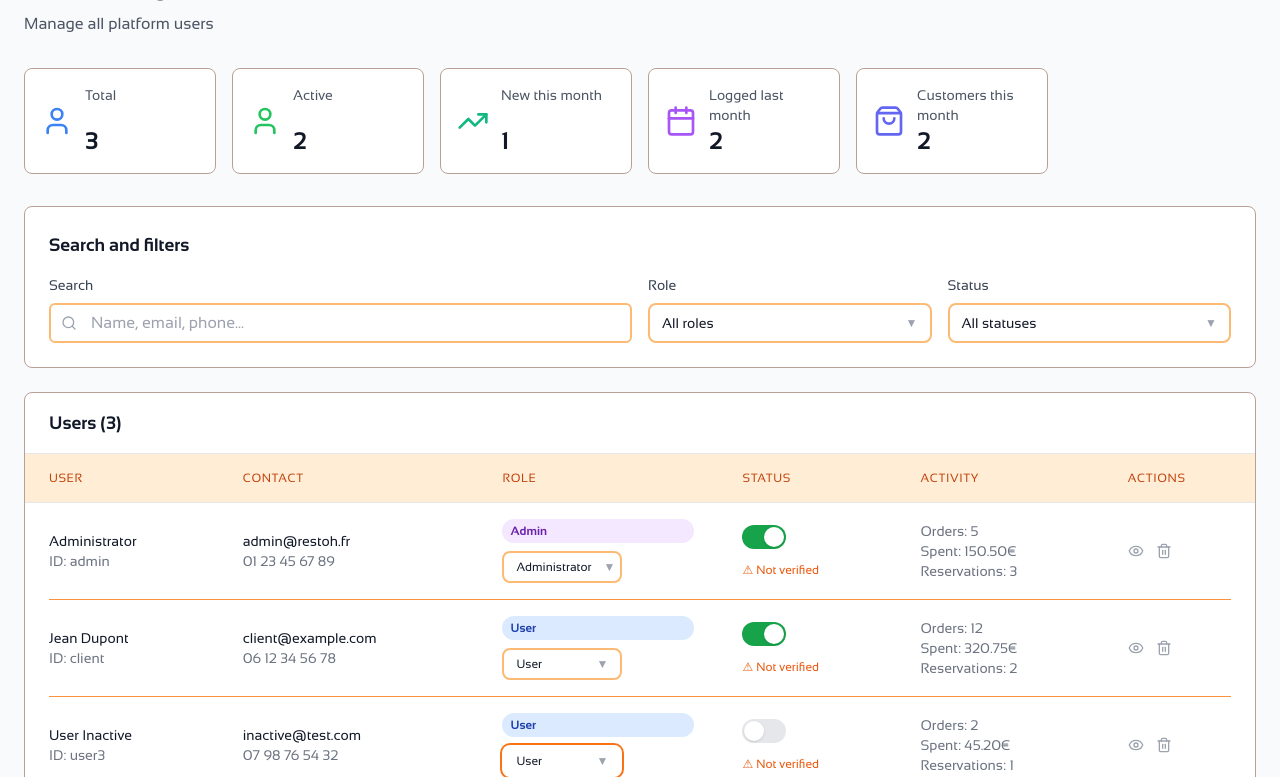
it: UsersManagement Component › Search Functionality › should filter users by search query (name)
(page scrolled)
Search by name - should filter out other users visually
Step 1. Type "Jean" into the field with placeholder "Name, email, phone..." → (340, 323), box x1=49 y1=303 x2=632 y2=343
(page scrolled)
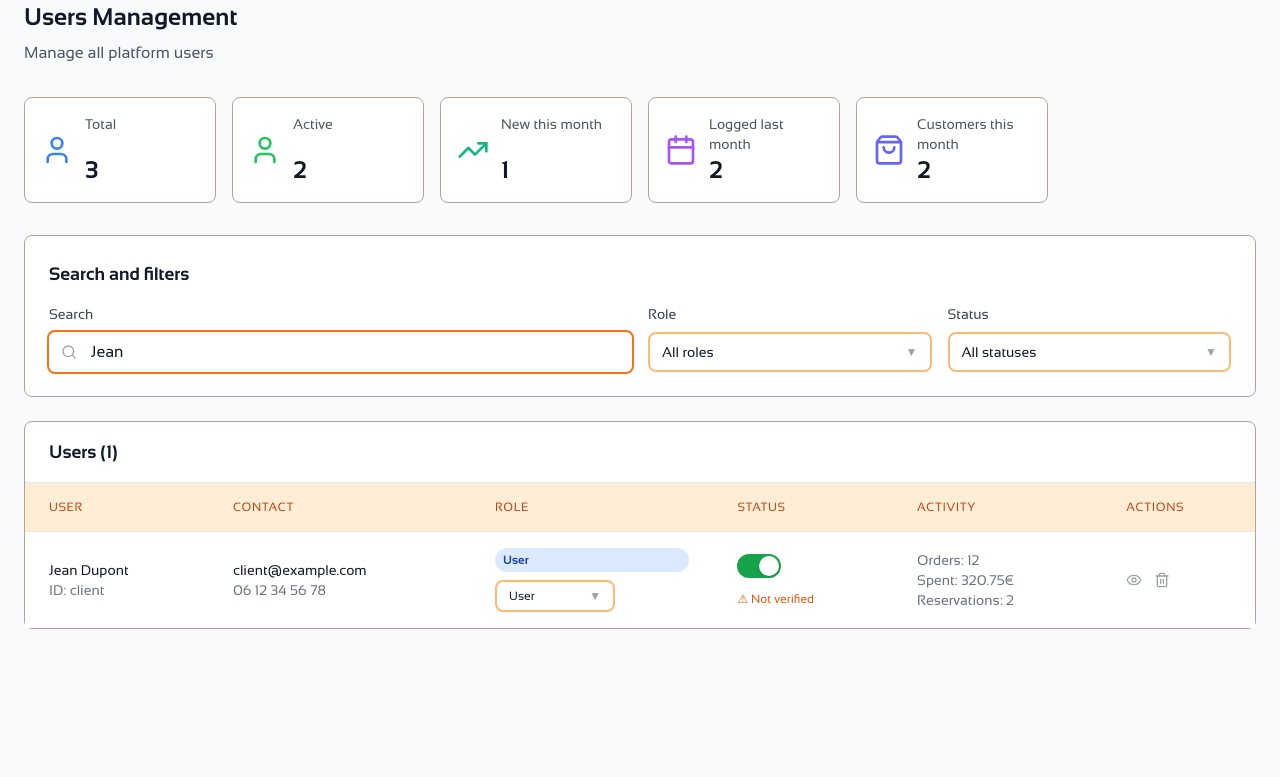
Check: the text "Jean Dupont" is shown 2 times
Check: the text "Administrator" is gone
Check: the text "User Inactive" is gone
